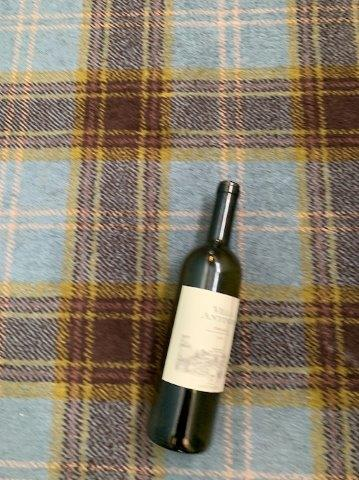botolkaca: (147, 180, 241, 454)
